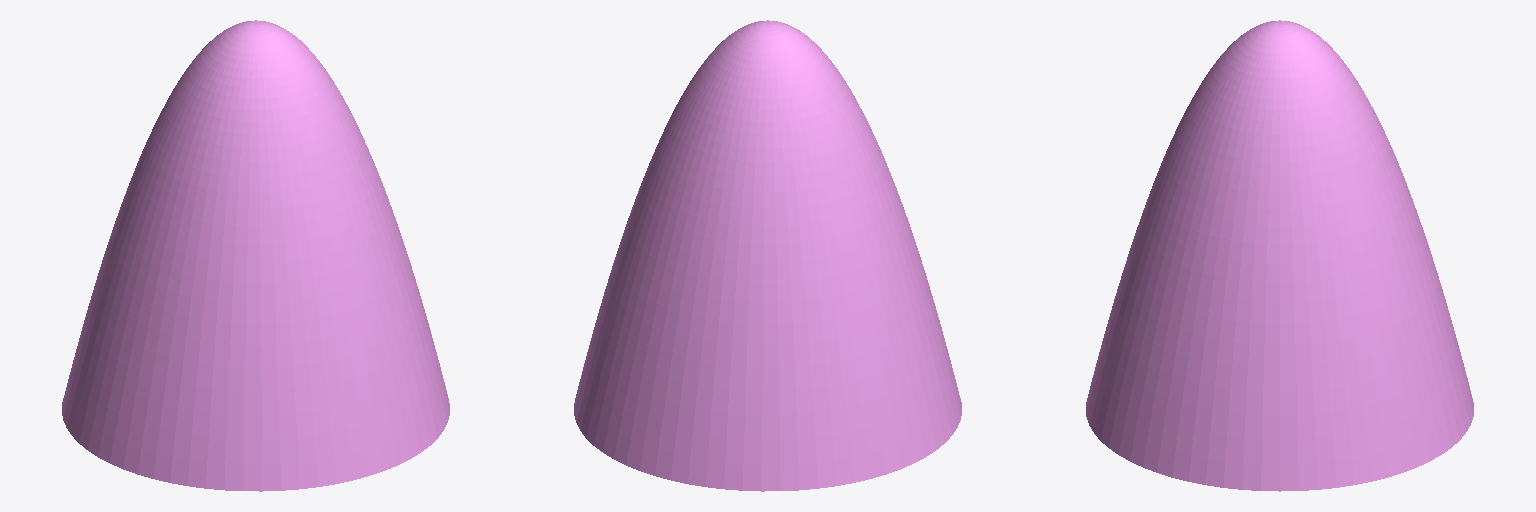
URDF robot description (turtlebot3_burger):
<?xml version="1.0" ?>
<!-- =================================================================================== -->
<!-- |    This document was autogenerated by xacro from tb3_burger_acbf1.urdf.xacro    | -->
<!-- |    EDITING THIS FILE BY HAND IS NOT RECOMMENDED                                 | -->
<!-- =================================================================================== -->
<robot name="turtlebot3_burger">
  <!-- Init colour -->
  <material name="black">
    <color rgba="0.0 0.0 0.0 1.0"/>
  </material>
  <material name="dark">
    <color rgba="0.3 0.3 0.3 1.0"/>
  </material>
  <material name="light_black">
    <color rgba="0.4 0.4 0.4 1.0"/>
  </material>
  <material name="blue">
    <color rgba="0.0 0.0 0.8 1.0"/>
  </material>
  <material name="blueTransparent">
    <color rgba="0.0 0.0 0.8 0.4"/>
  </material>
  <material name="green">
    <color rgba="0.0 0.8 0.0 1.0"/>
  </material>
  <material name="grey">
    <color rgba="0.5 0.5 0.5 1.0"/>
  </material>
  <material name="orange">
    <color rgba="1.0 0.4235294117647059 0.0392156862745098 1.0"/>
  </material>
  <material name="brown">
    <color rgba="0.8705882352941177 0.8117647058823529 0.7647058823529411 1.0"/>
  </material>
  <material name="red">
    <color rgba="0.8 0.0 0.0 1.0"/>
  </material>
  <material name="white">
    <color rgba="1.0 1.0 1.0 1.0"/>
  </material>
  <gazebo reference="base_link">
    <material>Gazebo/DarkGrey</material>
  </gazebo>
  <gazebo reference="wheel_left_link">
    <mu1>0.1</mu1>
    <mu2>0.1</mu2>
    <kp>500000.0</kp>
    <kd>10.0</kd>
    <minDepth>0.001</minDepth>
    <maxVel>0.1</maxVel>
    <fdir1>1 0 0</fdir1>
    <material>Gazebo/FlatBlack</material>
  </gazebo>
  <gazebo reference="wheel_right_link">
    <mu1>0.1</mu1>
    <mu2>0.1</mu2>
    <kp>500000.0</kp>
    <kd>10.0</kd>
    <minDepth>0.001</minDepth>
    <maxVel>0.1</maxVel>
    <fdir1>1 0 0</fdir1>
    <material>Gazebo/FlatBlack</material>
  </gazebo>
  <gazebo reference="caster_back_link">
    <mu1>0.1</mu1>
    <mu2>0.1</mu2>
    <kp>1000000.0</kp>
    <kd>100.0</kd>
    <minDepth>0.001</minDepth>
    <maxVel>1.0</maxVel>
    <material>Gazebo/FlatBlack</material>
  </gazebo>
  <gazebo reference="imu_link">
    <sensor name="imu" type="imu">
      <always_on>true</always_on>
      <visualize>false</visualize>
    </sensor>
    <material>Gazebo/FlatBlack</material>
  </gazebo>
  <gazebo>
    <plugin filename="libgazebo_ros_diff_drive.so" name="turtlebot3_burger_controller">
      <commandTopic>cmd_vel</commandTopic>
      <odometryTopic>odom</odometryTopic>
      <odometryFrame>odom</odometryFrame>
      <odometrySource>world</odometrySource>
      <publishOdomTF>true</publishOdomTF>
      <robotBaseFrame>base_footprint</robotBaseFrame>
      <publishWheelTF>false</publishWheelTF>
      <publishTf>true</publishTf>
      <publishWheelJointState>true</publishWheelJointState>
      <legacyMode>false</legacyMode>
      <updateRate>30</updateRate>
      <leftJoint>wheel_left_joint</leftJoint>
      <rightJoint>wheel_right_joint</rightJoint>
      <wheelSeparation>0.160</wheelSeparation>
      <wheelDiameter>0.066</wheelDiameter>
      <wheelAcceleration>1</wheelAcceleration>
      <wheelTorque>10</wheelTorque>
      <rosDebugLevel>na</rosDebugLevel>
    </plugin>
  </gazebo>
  <gazebo>
    <plugin filename="libgazebo_ros_imu.so" name="imu_plugin">
      <alwaysOn>true</alwaysOn>
      <bodyName>imu_link</bodyName>
      <frameName>imu_link</frameName>
      <topicName>imu</topicName>
      <serviceName>imu_service</serviceName>
      <gaussianNoise>0.0</gaussianNoise>
      <updateRate>0</updateRate>
      <imu>
        <noise>
          <type>gaussian</type>
          <rate>
            <mean>0.0</mean>
            <stddev>2e-4</stddev>
            <bias_mean>0.0000075</bias_mean>
            <bias_stddev>0.0000008</bias_stddev>
          </rate>
          <accel>
            <mean>0.0</mean>
            <stddev>1.7e-2</stddev>
            <bias_mean>0.1</bias_mean>
            <bias_stddev>0.001</bias_stddev>
          </accel>
        </noise>
      </imu>
    </plugin>
  </gazebo>
  <gazebo reference="base_scan">
    <material>Gazebo/FlatBlack</material>
    <sensor name="lds_lfcd_sensor" type="ray">
      <pose>0 0 0 0 0 0</pose>
      <visualize>false</visualize>
      <update_rate>5</update_rate>
      <ray>
        <scan>
          <horizontal>
            <samples>360</samples>
            <resolution>1</resolution>
            <min_angle>0.0</min_angle>
            <max_angle>6.28319</max_angle>
          </horizontal>
        </scan>
        <range>
          <min>0.120</min>
          <max>3.5</max>
          <resolution>0.015</resolution>
        </range>
        <noise>
          <type>gaussian</type>
          <mean>0.0</mean>
          <stddev>0.01</stddev>
        </noise>
      </ray>
      <plugin filename="libgazebo_ros_laser.so" name="gazebo_ros_lds_lfcd_controller">
        <topicName>scan</topicName>
        <frameName>base_scan</frameName>
      </plugin>
    </sensor>
  </gazebo>
  <link name="base_footprint"/>
  <joint name="base_joint" type="fixed">
    <parent link="base_footprint"/>
    <child link="base_link"/>
    <origin rpy="0 0 0" xyz="0.0 0.0 0.010"/>
  </joint>
  <joint name="base_to_fl_pillar" type="fixed">
    <origin rpy="0 0 0" xyz="0.03 0.03 0.18000000000000002"/>
    <parent link="base_link"/>
    <child link="front_left_pillar"/>
  </joint>
  <link name="front_left_pillar">
    <visual>
      <geometry>
        <cylinder length="0.08" radius="0.002"/>
      </geometry>
      <material name="blue">
        <color rgba="0 0 0.8 1"/>
      </material>
    </visual>
    <collision>
      <geometry>
        <cylinder length="0.08" radius="0.002"/>
      </geometry>
    </collision>
    <inertial>
      <mass value="0.1"/>
      <inertia ixx="5.343331196e-05" ixy="0.0" ixz="0.0" iyy="5.343331196e-05" iyz="0.0" izz="2e-07"/>
    </inertial>
  </link>
  <joint name="base_to_fr_pillar" type="fixed">
    <origin rpy="0 0 0" xyz="0.03 -0.03 0.18000000000000002"/>
    <parent link="base_link"/>
    <child link="front_right_pillar"/>
  </joint>
  <link name="front_right_pillar">
    <visual>
      <geometry>
        <cylinder length="0.08" radius="0.002"/>
      </geometry>
      <material name="blue">
        <color rgba="0 0 0.8 1"/>
      </material>
    </visual>
    <collision>
      <geometry>
        <cylinder length="0.08" radius="0.002"/>
      </geometry>
    </collision>
    <inertial>
      <mass value="0.1"/>
      <inertia ixx="5.343331196e-05" ixy="0.0" ixz="0.0" iyy="5.343331196e-05" iyz="0.0" izz="2e-07"/>
    </inertial>
  </link>
  <joint name="base_to_br_pillar" type="fixed">
    <origin rpy="0 0 0" xyz="-0.09 -0.03 0.18000000000000002"/>
    <parent link="base_link"/>
    <child link="back_right_pillar"/>
  </joint>
  <link name="back_right_pillar">
    <visual>
      <geometry>
        <cylinder length="0.08" radius="0.002"/>
      </geometry>
      <material name="blue">
        <color rgba="0 0 0.8 1"/>
      </material>
    </visual>
    <collision>
      <geometry>
        <cylinder length="0.08" radius="0.002"/>
      </geometry>
    </collision>
    <inertial>
      <mass value="0.1"/>
      <inertia ixx="5.343331196e-05" ixy="0.0" ixz="0.0" iyy="5.343331196e-05" iyz="0.0" izz="2e-07"/>
    </inertial>
  </link>
  <joint name="base_to_bl_pillar" type="fixed">
    <origin rpy="0 0 0" xyz="-0.09 0.03 0.18000000000000002"/>
    <parent link="base_link"/>
    <child link="back_left_pillar"/>
  </joint>
  <link name="back_left_pillar">
    <visual>
      <geometry>
        <cylinder length="0.08" radius="0.002"/>
      </geometry>
      <material name="blue">
        <color rgba="0 0 0.8 1"/>
      </material>
    </visual>
    <collision>
      <geometry>
        <cylinder length="0.08" radius="0.002"/>
      </geometry>
    </collision>
    <inertial>
      <mass value="0.1"/>
      <inertia ixx="5.343331196e-05" ixy="0.0" ixz="0.0" iyy="5.343331196e-05" iyz="0.0" izz="2e-07"/>
    </inertial>
  </link>
  <joint name="base_to_disc" type="fixed">
    <origin rpy="0 0 0" xyz="-0.03 0.0 0.22000000000000003"/>
    <parent link="base_link"/>
    <child link="disc"/>
  </joint>
  <link name="disc">
    <visual>
      <geometry>
        <cylinder length="0.005" radius="0.08"/>
      </geometry>
      <material name="blue">
        <color rgba="0 0 0.8 1"/>
      </material>
    </visual>
    <collision>
      <geometry>
        <cylinder length="0.005" radius="0.08"/>
      </geometry>
    </collision>
    <inertial>
      <mass value="0.1"/>
      <inertia ixx="0.00016020826925" ixy="0.0" ixz="0.0" iyy="0.00016020826925" iyz="0.0" izz="0.00032"/>
    </inertial>
  </link>
  <link name="base_link">
    <visual>
      <origin rpy="0 0 0" xyz="-0.032 0 0.0"/>
      <geometry>
        <mesh filename="package://turtlebot3_description/meshes/bases/burger_base.stl" scale="0.001 0.001 0.001"/>
      </geometry>
      <material name="light_black"/>
    </visual>
    <collision>
      <origin rpy="0 0 0" xyz="-0.032 0 0.070"/>
      <geometry>
        <box size="0.140 0.140 0.143"/>
      </geometry>
    </collision>
    <inertial>
      <origin rpy="0 0 0" xyz="0 0 0"/>
      <mass value="8.2573504e-01"/>
      <inertia ixx="2.2124416e-03" ixy="-1.2294101e-05" ixz="3.4938785e-05" iyy="2.1193702e-03" iyz="-5.0120904e-06" izz="2.0064271e-03"/>
    </inertial>
  </link>
  <joint name="wheel_left_joint" type="fixed">
    <parent link="base_link"/>
    <child link="wheel_left_link"/>
    <origin rpy="-1.57 0 0" xyz="0.0 0.08 0.023"/>
    <axis xyz="0 0 1"/>
  </joint>
  <link name="wheel_left_link">
    <visual>
      <origin rpy="1.57 0 0" xyz="0 0 0"/>
      <geometry>
        <mesh filename="package://turtlebot3_description/meshes/wheels/left_tire.stl" scale="0.001 0.001 0.001"/>
      </geometry>
      <material name="dark"/>
    </visual>
    <collision>
      <origin rpy="0 0 0" xyz="0 0 0"/>
      <geometry>
        <cylinder length="0.018" radius="0.033"/>
      </geometry>
    </collision>
    <inertial>
      <origin xyz="0 0 0"/>
      <mass value="2.8498940e-02"/>
      <inertia ixx="1.1175580e-05" ixy="-4.2369783e-11" ixz="-5.9381719e-09" iyy="1.1192413e-05" iyz="-1.4400107e-11" izz="2.0712558e-05"/>
    </inertial>
  </link>
  <joint name="wheel_right_joint" type="fixed">
    <parent link="base_link"/>
    <child link="wheel_right_link"/>
    <origin rpy="-1.57 0 0" xyz="0.0 -0.080 0.023"/>
    <axis xyz="0 0 1"/>
  </joint>
  <link name="wheel_right_link">
    <visual>
      <origin rpy="1.57 0 0" xyz="0 0 0"/>
      <geometry>
        <mesh filename="package://turtlebot3_description/meshes/wheels/right_tire.stl" scale="0.001 0.001 0.001"/>
      </geometry>
      <material name="dark"/>
    </visual>
    <collision>
      <origin rpy="0 0 0" xyz="0 0 0"/>
      <geometry>
        <cylinder length="0.018" radius="0.033"/>
      </geometry>
    </collision>
    <inertial>
      <origin xyz="0 0 0"/>
      <mass value="2.8498940e-02"/>
      <inertia ixx="1.1175580e-05" ixy="-4.2369783e-11" ixz="-5.9381719e-09" iyy="1.1192413e-05" iyz="-1.4400107e-11" izz="2.0712558e-05"/>
    </inertial>
  </link>
  <joint name="caster_back_joint" type="fixed">
    <parent link="base_link"/>
    <child link="caster_back_link"/>
    <origin rpy="-1.57 0 0" xyz="-0.081 0 -0.004"/>
  </joint>
  <link name="caster_back_link">
    <collision>
      <origin rpy="0 0 0" xyz="0 0.001 0"/>
      <geometry>
        <box size="0.030 0.009 0.020"/>
      </geometry>
    </collision>
    <inertial>
      <origin xyz="0 0 0"/>
      <mass value="0.005"/>
      <inertia ixx="0.001" ixy="0.0" ixz="0.0" iyy="0.001" iyz="0.0" izz="0.001"/>
    </inertial>
  </link>
  <joint name="imu_joint" type="fixed">
    <parent link="base_link"/>
    <child link="imu_link"/>
    <origin rpy="0 0 0" xyz="-0.032 0 0.068"/>
  </joint>
  <link name="imu_link"/>
  <joint name="scan_joint" type="fixed">
    <parent link="base_link"/>
    <child link="base_scan"/>
    <origin rpy="0 0 0" xyz="-0.032 0 0.172"/>
  </joint>
  <link name="base_scan">
    <visual>
      <origin rpy="0 0 0" xyz="0 0 0.0"/>
      <geometry>
        <mesh filename="package://turtlebot3_description/meshes/sensors/lds.stl" scale="0.001 0.001 0.001"/>
      </geometry>
      <material name="dark"/>
    </visual>
    <collision>
      <origin rpy="0 0 0" xyz="0.015 0 -0.0065"/>
      <geometry>
        <cylinder length="0.0315" radius="0.055"/>
      </geometry>
    </collision>
    <inertial>
      <mass value="0.114"/>
      <origin xyz="0 0 0"/>
      <inertia ixx="0.001" ixy="0.0" ixz="0.0" iyy="0.001" iyz="0.0" izz="0.001"/>
    </inertial>
  </link>
  <link name="constraint">
    <visual>
      <origin rpy="0 0 0" xyz="0 0 0.0"/>
      <geometry>
        <mesh filename="package://ss_workshop/models/meshes/paraboloid.stl" scale="1.0 1.0 1.0"/>
      </geometry>
      <material name="pinkTransparent">
        <color rgba="1.0 0.7 1.0 0.4"/>
      </material>
    </visual>
  </link>
  <joint name="constraint_joint" type="fixed">
    <parent link="disc"/>
    <child link="constraint"/>
    <origin rpy="0 0 0" xyz="0.0 0.0 0.0"/>
  </joint>
  <gazebo reference="constraint">
    <material>Gazebo/RedTransparent</material>
  </gazebo>
</robot>

--- What the picture shows (computed from the rendered views, not written in the file) ---
Views: 3 orthographic renders of the robot side by side, from view 1: azimuth 30°, elevation 25°; view 2: azimuth 150°, elevation 25°; view 3: azimuth 270°, elevation 25°.
Robot: turtlebot3_burger — 13 links, 12 joints (12 fixed); root link base_footprint; default pose: every joint at zero.
Visible links, largest first — view 1: constraint; view 2: constraint; view 3: constraint.
Boxes of the visible links, left/top/right/bottom form: constraint: left=62, top=20, right=449, bottom=491; constraint: left=574, top=20, right=961, bottom=491; constraint: left=1086, top=20, right=1473, bottom=491.
Size in the robot's own frame: 0.6419 by 0.6419 by 0.781 metres.
1 mesh visuals loaded from 5 distinct referenced files (1 binary STL); not drawn: 4 (reference not matched to a file when rendering).
